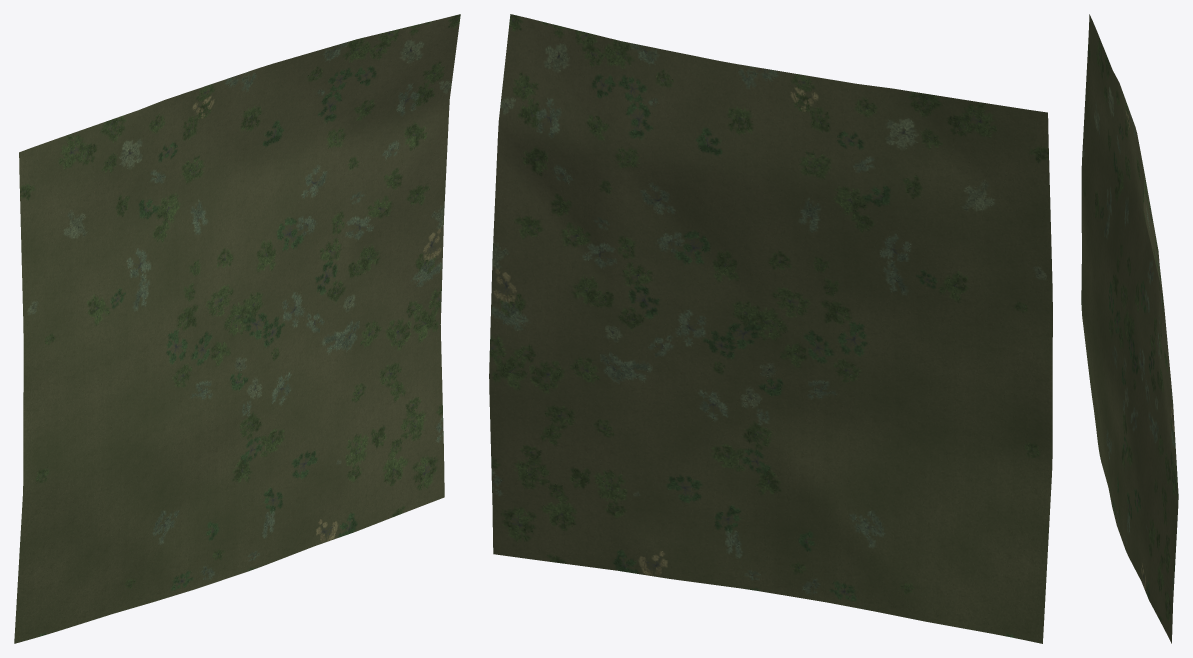
The model's file is terrain_near_00_01.obj.
3 renders of one model, left to right at view 1: azimuth 30°, elevation 25°; view 2: azimuth 150°, elevation 25°; view 3: azimuth 270°, elevation 25°, orthographic. The views are drawn at different scales.
Parts seen in each view (by area): view 1: terrain_near_00_01; view 2: terrain_near_00_01; view 3: terrain_near_00_01.
Part boxes in pixels (left/top/right/bottom): terrain_near_00_01: left=14, top=14, right=460, bottom=643; terrain_near_00_01: left=489, top=14, right=1052, bottom=643; terrain_near_00_01: left=1081, top=14, right=1178, bottom=643.
Bounding box in the file's own units: 64 × 64 × 13.14.
Materials: 1 (1 with a texture image).
